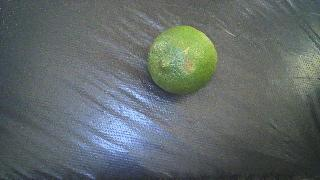DESECHO: (147, 26, 217, 94)
